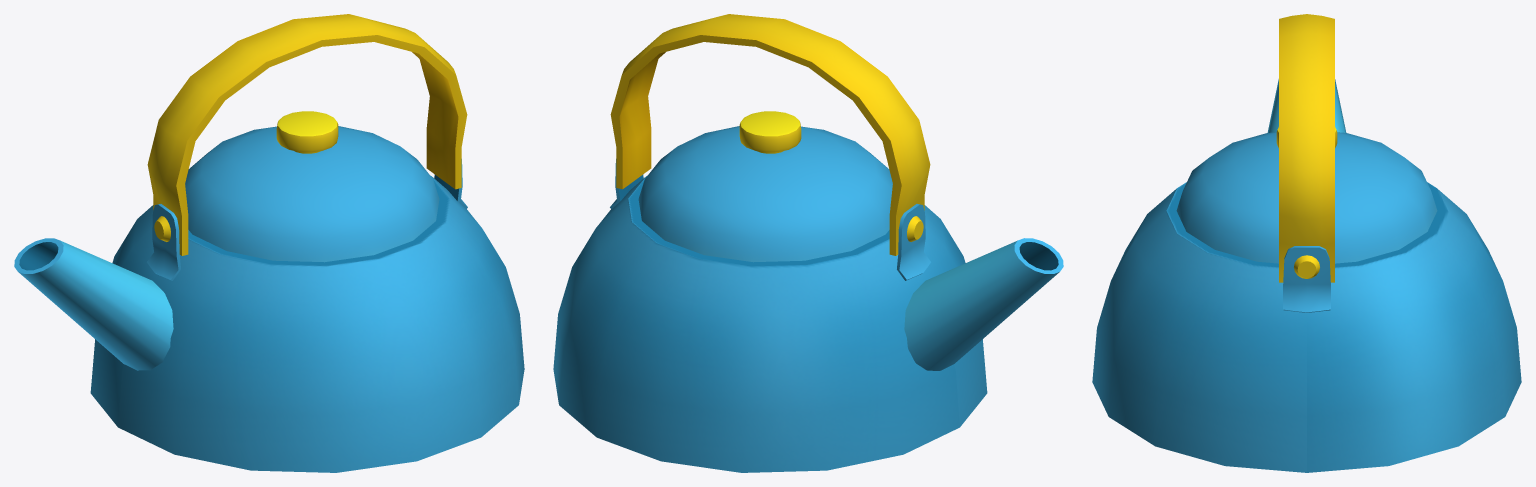
The model's file is kettle.FBX.
The picture shows the model from 3 angles, left to right: view 1: azimuth 30°, elevation 25°; view 2: azimuth 150°, elevation 25°; view 3: azimuth 270°, elevation 25°; orthographic projection.
Visible parts, largest first — view 1: kettle; view 2: kettle; view 3: kettle.
Part boxes in pixels (bbox=[...]): kettle: bbox=[14, 14, 524, 472]; kettle: bbox=[553, 14, 1063, 472]; kettle: bbox=[1092, 14, 1521, 472].
Bounding box in the file's own units: 46.62 × 33.06 × 36.86.
